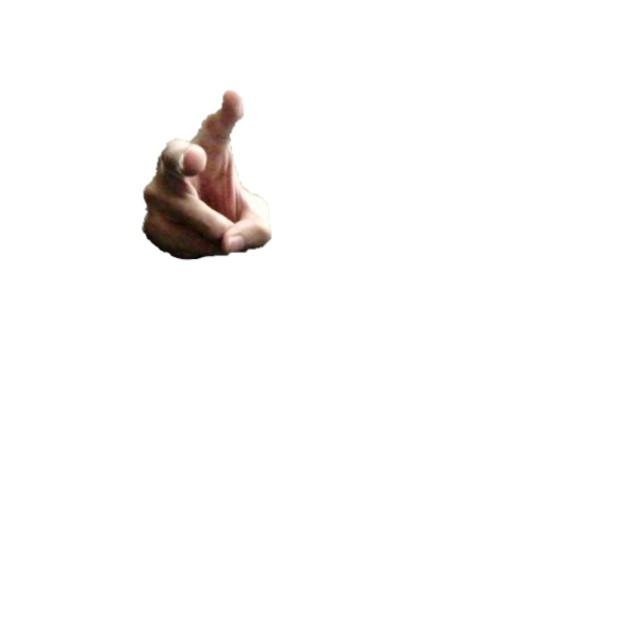tyoki: (141, 89, 273, 261)
